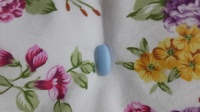Apranax: (93, 44, 112, 78)
